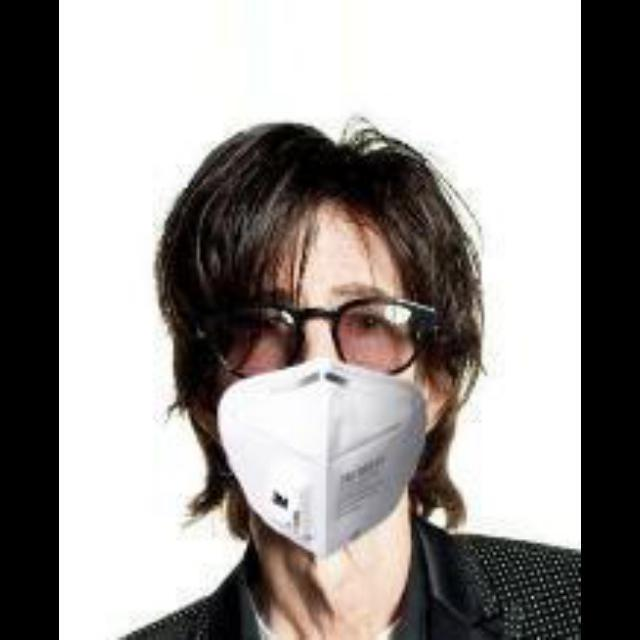suspicion: (108, 120, 530, 524)
